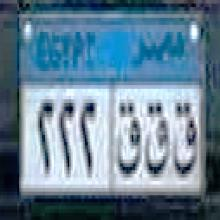2: (57, 94, 78, 177), (79, 94, 98, 180), (36, 94, 55, 177)
qaaf: (143, 98, 171, 180), (172, 98, 199, 182), (115, 97, 142, 180)
